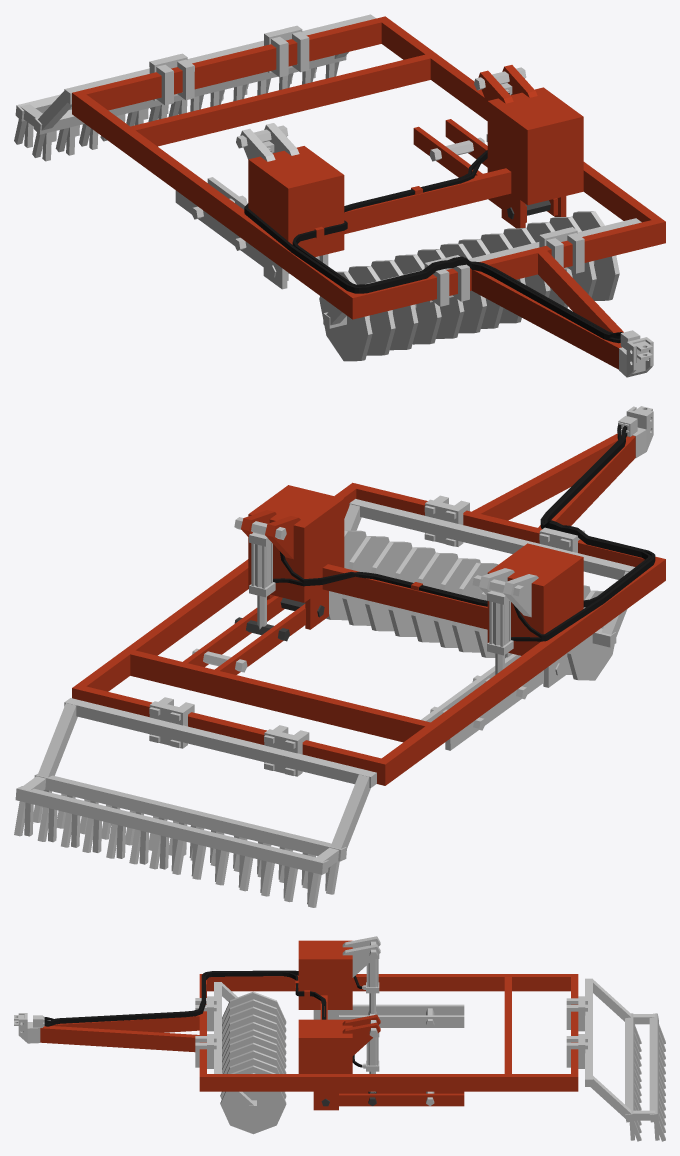
The model's file is randallchiselplow3.obj.
3 renders of one model, top to bottom at view 1: azimuth 30°, elevation 25°; view 2: azimuth 150°, elevation 25°; view 3: azimuth 270°, elevation 25°, orthographic. The views are drawn at different scales.
Parts seen in each view (by area): view 1: body, $wheelArm, $hydraulicCylinder, tongue; view 2: body, $wheelArm, $hydraulicCylinder, tongue; view 3: body, $wheelArm, $hydraulicCylinder, tongue.
Part boxes in pixels (x1,y1,x2,y2): body: (14, 14, 665, 369); $wheelArm: (175, 119, 557, 280); $hydraulicCylinder: (236, 67, 526, 153); tongue: (619, 337, 653, 377); body: (14, 416, 665, 907); $wheelArm: (183, 596, 562, 750); $hydraulicCylinder: (234, 517, 524, 655); tongue: (626, 406, 653, 458); body: (33, 936, 665, 1141); $wheelArm: (321, 1004, 464, 1106); $hydraulicCylinder: (363, 941, 379, 1071); tongue: (18, 1013, 40, 1043).
Size of the model in its own units: 2.73 by 1.39 by 7.3.
